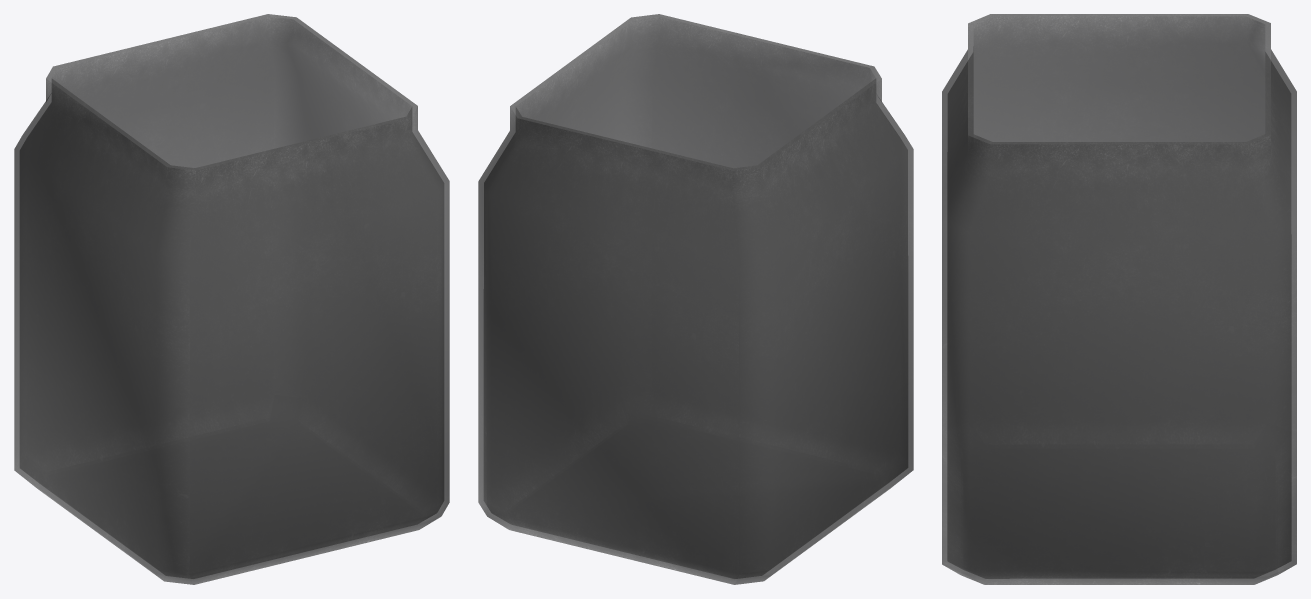
Rendered from dagasibottle02.fbx.
3 renders of one model, left to right at view 1: azimuth 30°, elevation 25°; view 2: azimuth 150°, elevation 25°; view 3: azimuth 270°, elevation 25°, orthographic. The views are drawn at different scales.
Parts seen in each view (by area): view 1: dagasibottle02; view 2: dagasibottle02; view 3: dagasibottle02.
Part boxes in pixels (box(x1,y1,x2,y2)): dagasibottle02: box(14, 14, 449, 584); dagasibottle02: box(478, 14, 913, 584); dagasibottle02: box(942, 14, 1296, 584).
Size of the model in its own units: 22.58 by 30.16 by 22.17.
